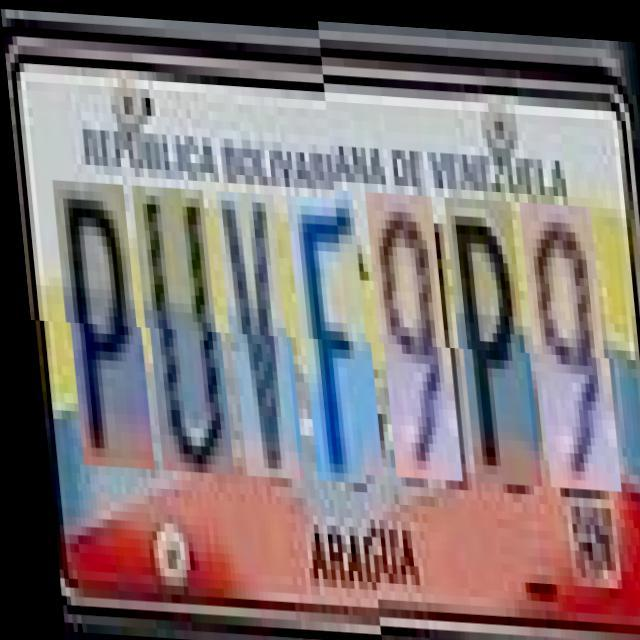9: (521, 205, 613, 492), (366, 196, 454, 484)
F: (287, 192, 375, 480)
P: (53, 180, 145, 468), (446, 201, 534, 488)
U: (133, 184, 225, 472)
V: (216, 188, 295, 476)
